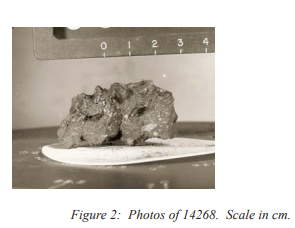Breccia: (49, 62, 182, 154)
